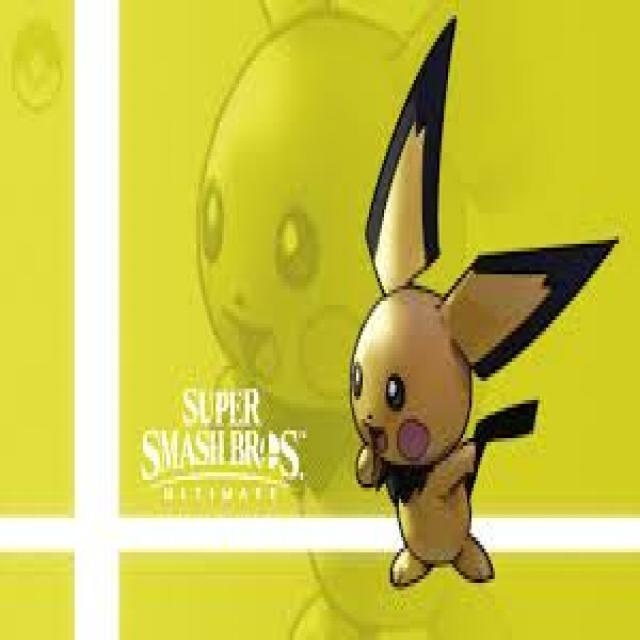pichu: (354, 24, 626, 586)
